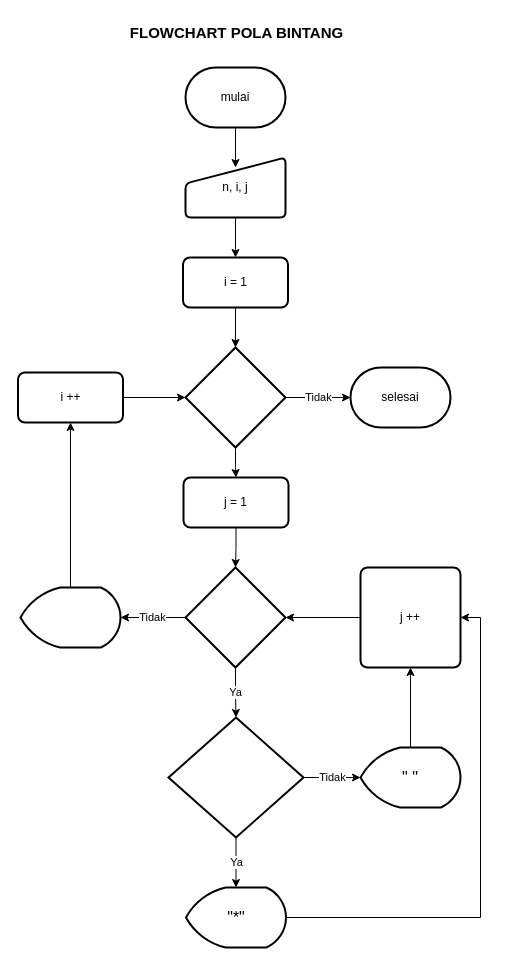
Image size: 506x965. Some labels were removed from this diagram. Here are the shapes that lost their labels. From the top down, the centre of each, then its label:
pixel 235 397: i <= n
pixel 70 617: "/n"
pixel 235 617: j <= n
pixel 235 777: (j<=i || j>=(n+1)-i) && (j>=i || j<=(n+1)-i)
